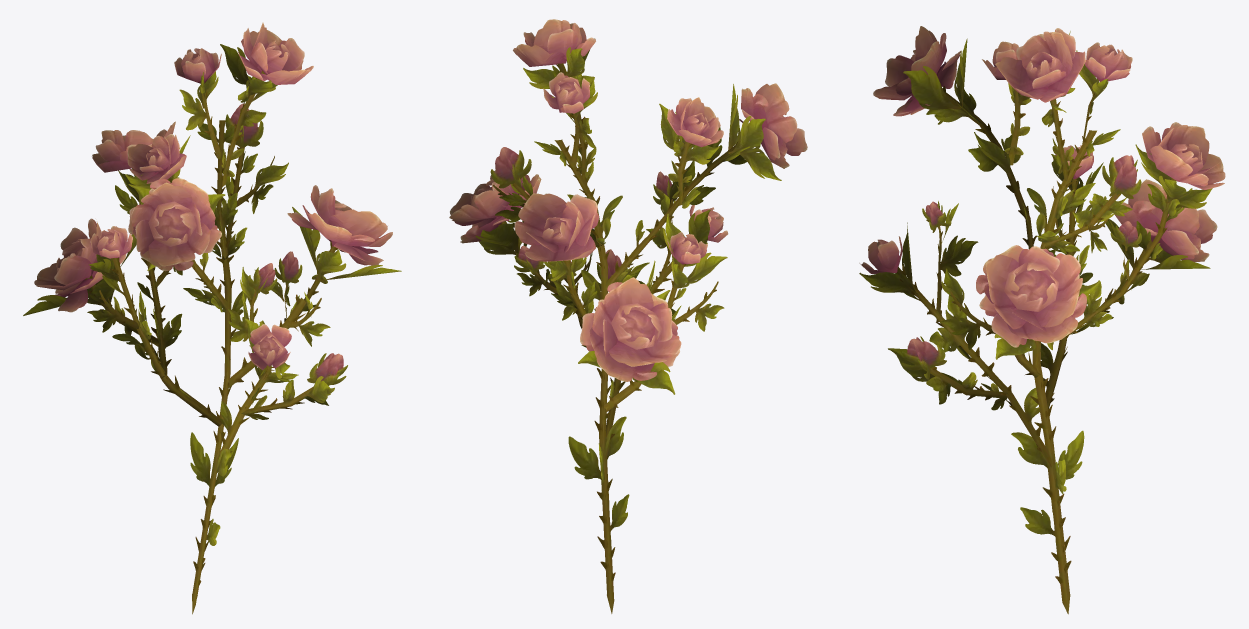
The picture shows the model from 3 angles, left to right: view 1: azimuth 30°, elevation 25°; view 2: azimuth 150°, elevation 25°; view 3: azimuth 270°, elevation 25°; orthographic projection. The views are drawn at different scales.
Size of the model in its own units: 2.94 by 5.08 by 2.82.
Materials: 1 (1 with a texture image).
